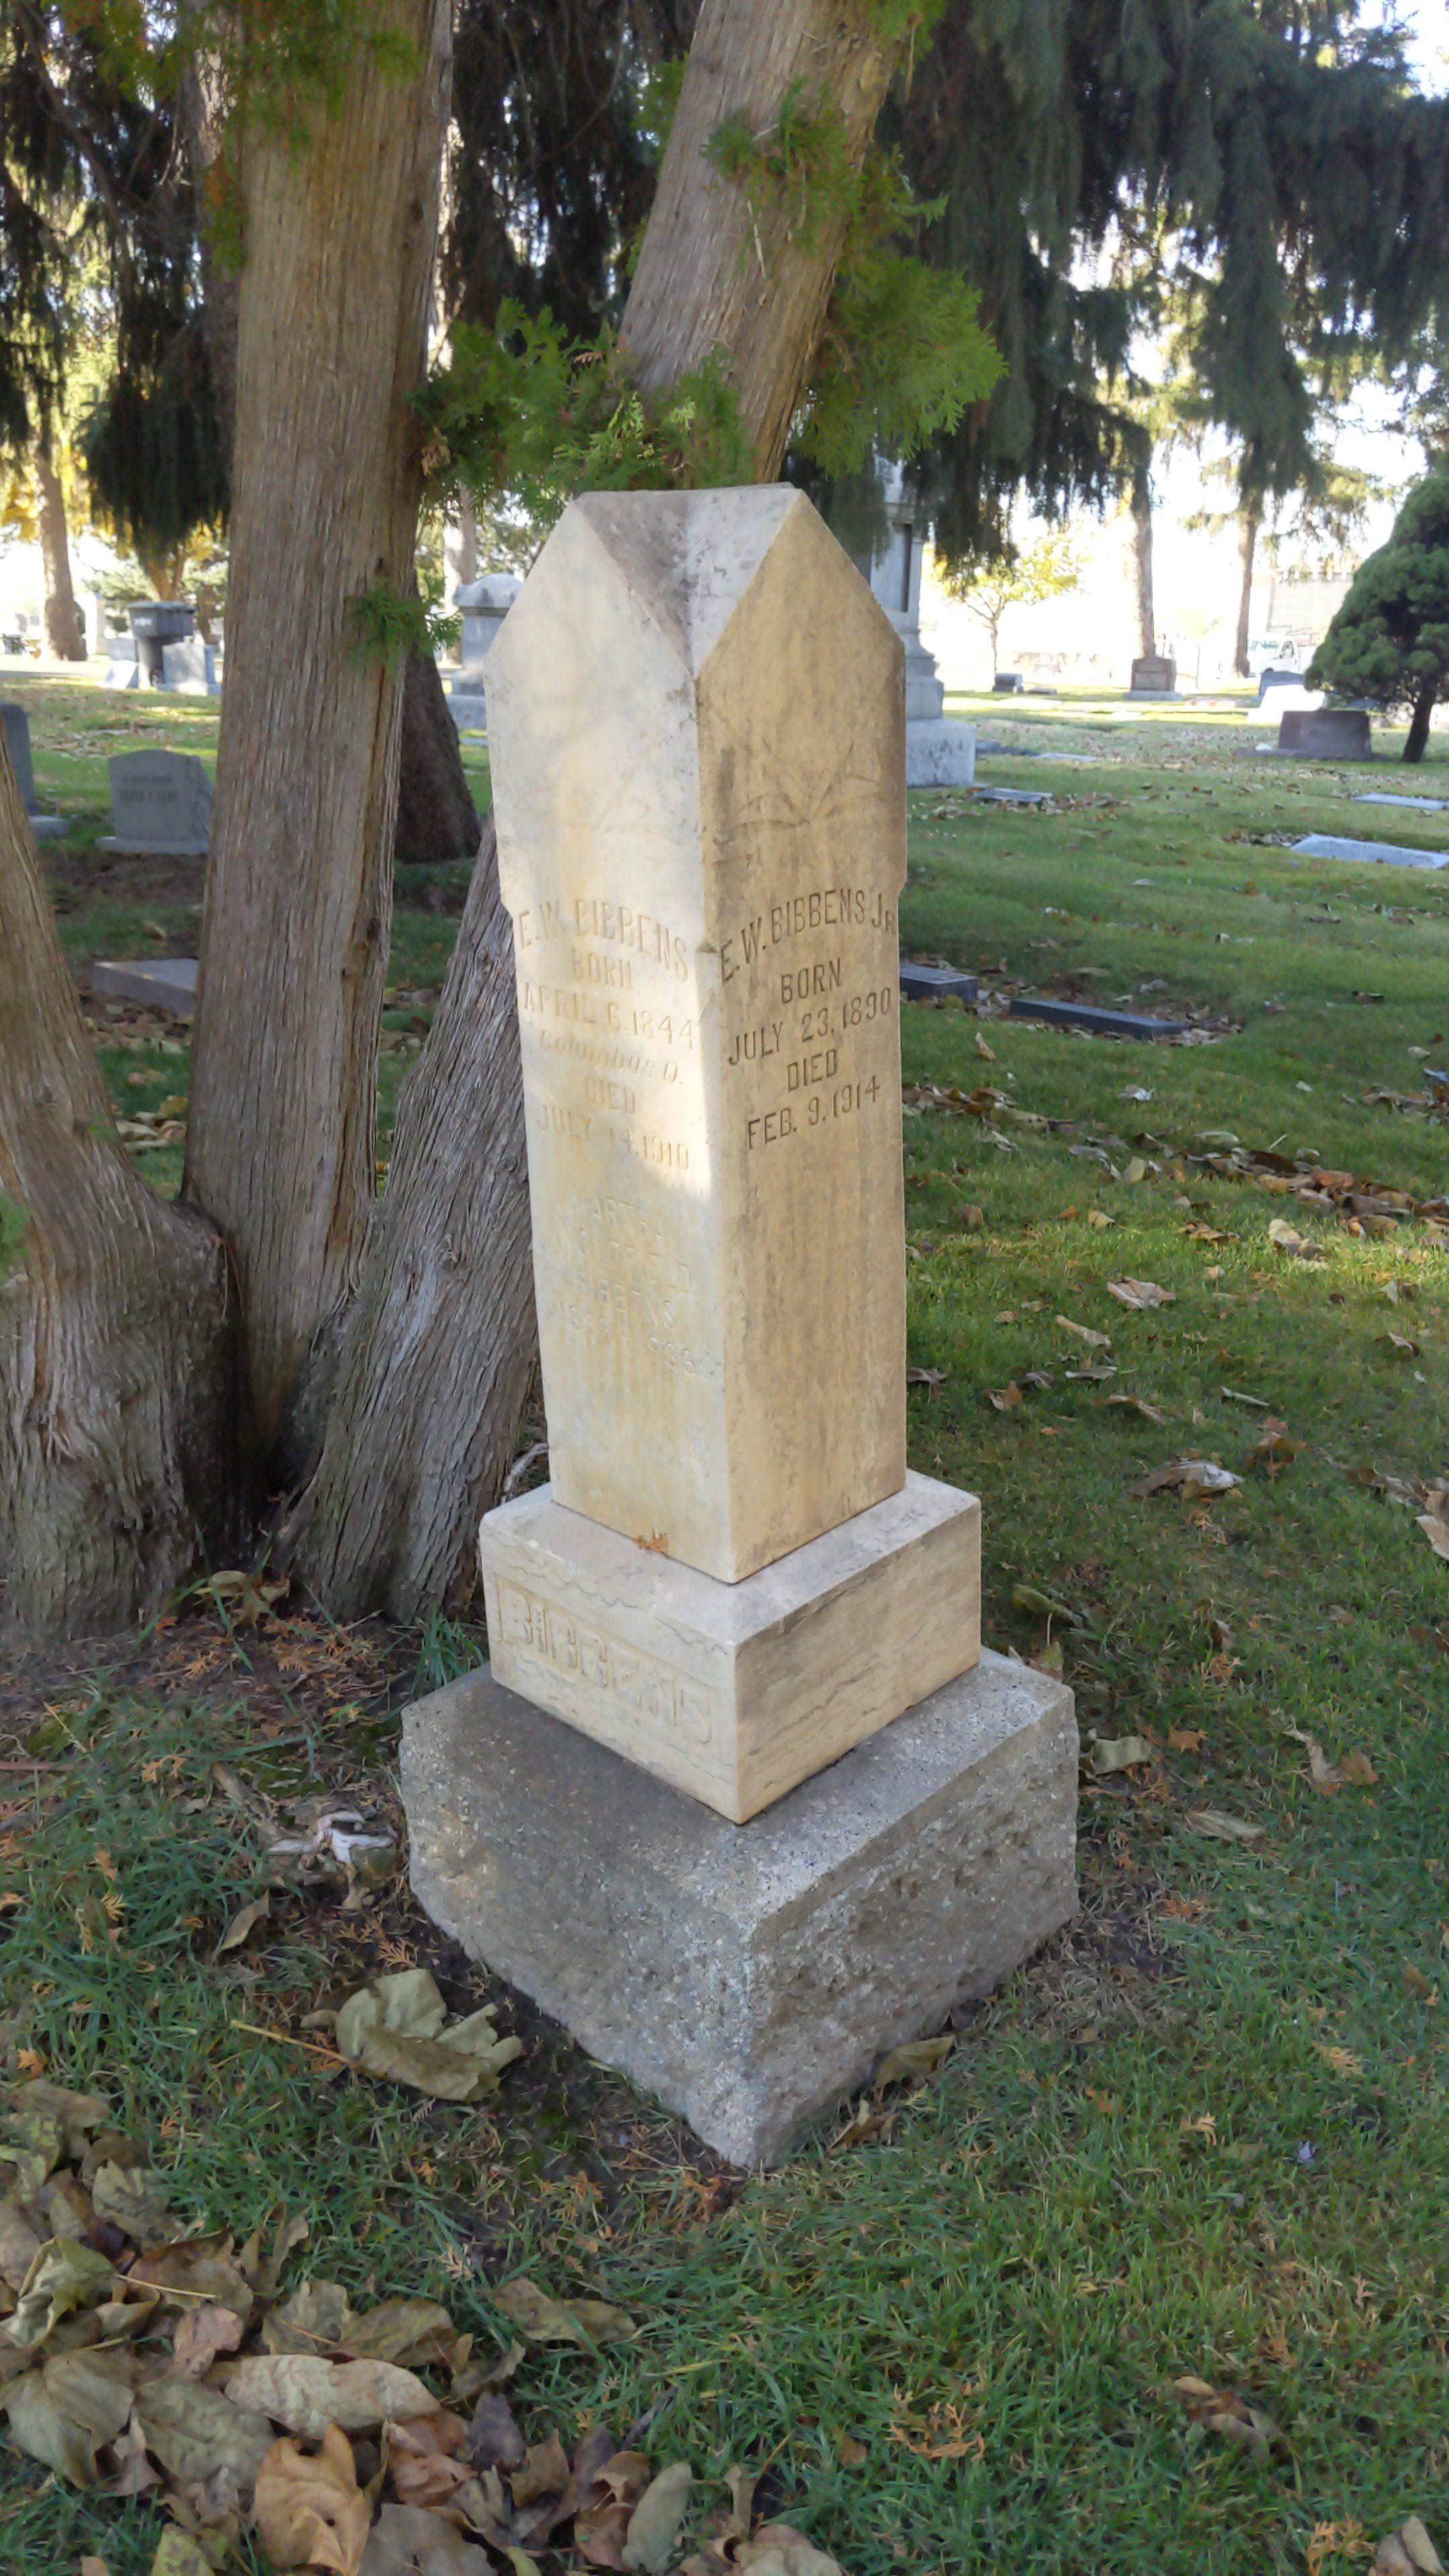obelisk: (490, 485, 978, 1812)
